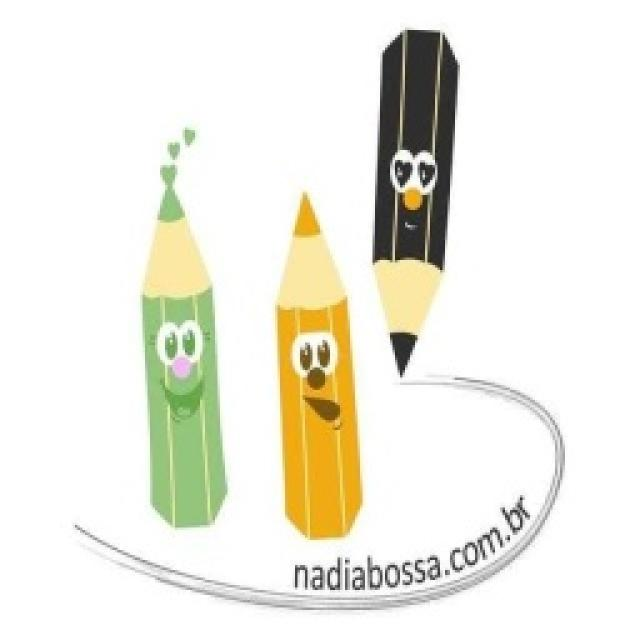pencil: (368, 25, 460, 375)
